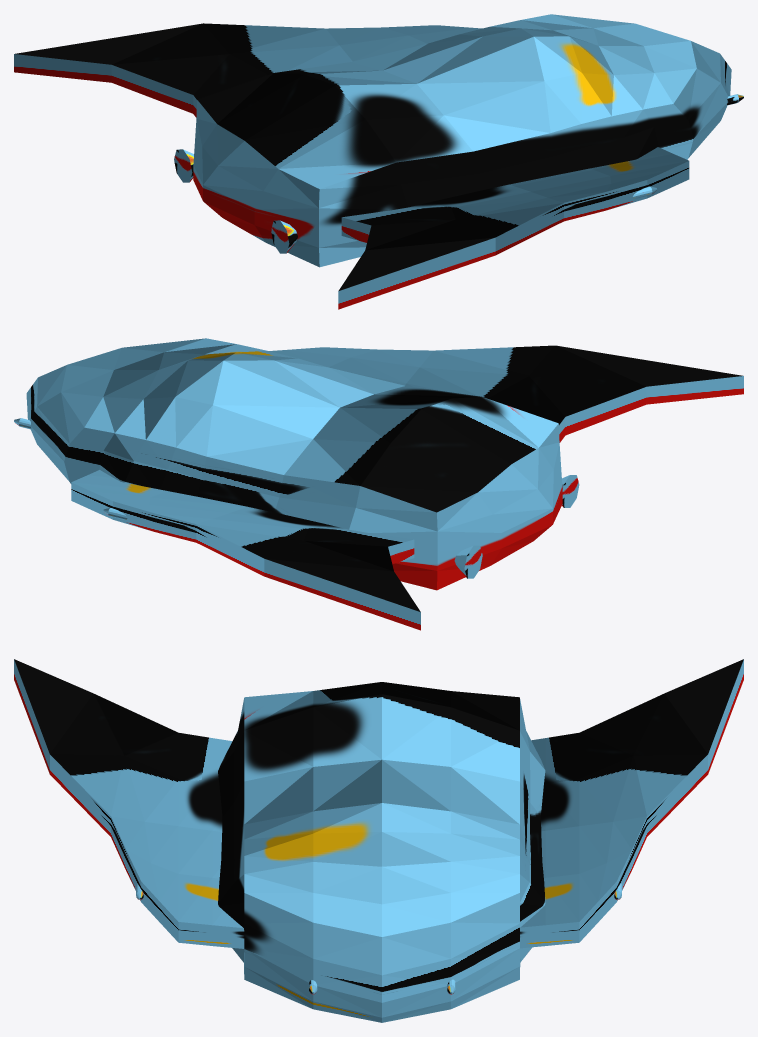
Rendered from smallfighter.obj.
3 views of the same model, one above another, from view 1: azimuth 30°, elevation 25°; view 2: azimuth 150°, elevation 25°; view 3: azimuth 270°, elevation 25° (orthographic). The views are drawn at different scales.
Visible parts, largest first — view 1: Cube, Cube.002, Cube.001, Cone.002, Cone.001; view 2: Cube, Cube.002, Cube.001, Cone.001; view 3: Cube, Cube.002, Cube.001.
Part boxes in pixels (x1,y1,x2,y2): Cube: (193, 14, 731, 267); Cube.002: (338, 147, 689, 309); Cube.001: (14, 23, 482, 117); Cone.002: (271, 220, 297, 253); Cone.001: (174, 149, 193, 182); Cube: (26, 338, 562, 590); Cube.002: (269, 345, 743, 442); Cube.001: (71, 470, 420, 630); Cone.001: (454, 545, 482, 578); Cube: (218, 682, 545, 1022); Cube.002: (14, 659, 244, 948); Cube.001: (520, 659, 743, 948).
Bounding box in the file's own units: 5.25 × 1.07 × 5.3.
Materials: 1 (1 with a texture image).
